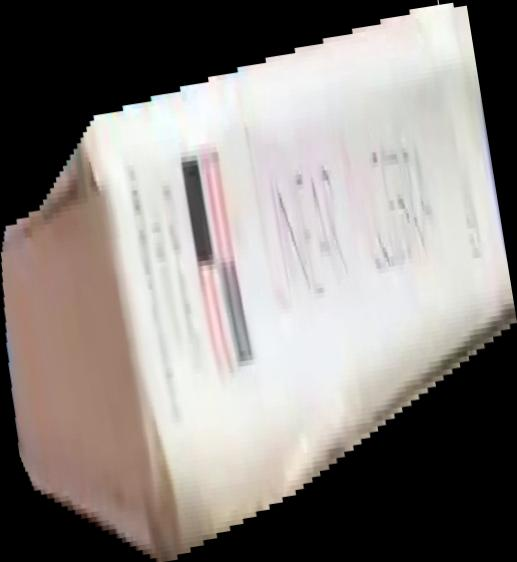flat: (1, 1, 517, 562)
